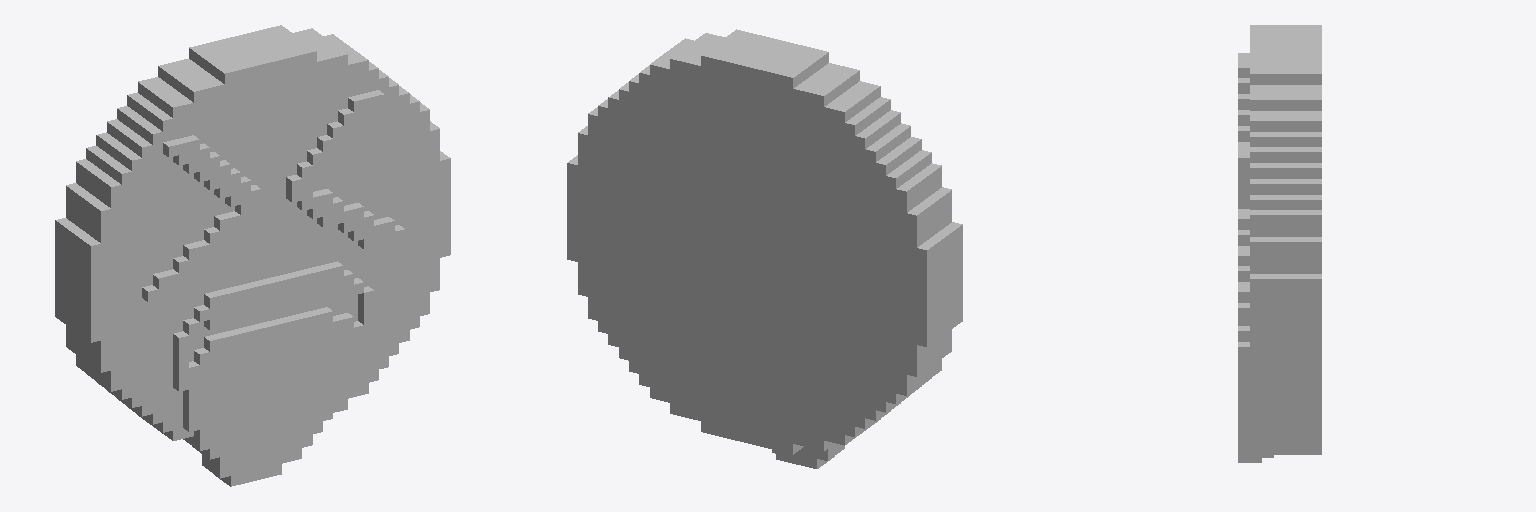
Rendered from Puke Face.obj.
3 views of the same model, side by side, from view 1: azimuth 30°, elevation 25°; view 2: azimuth 150°, elevation 25°; view 3: azimuth 270°, elevation 25° (orthographic).
Size of the model in its own units: 35 by 38 by 7.